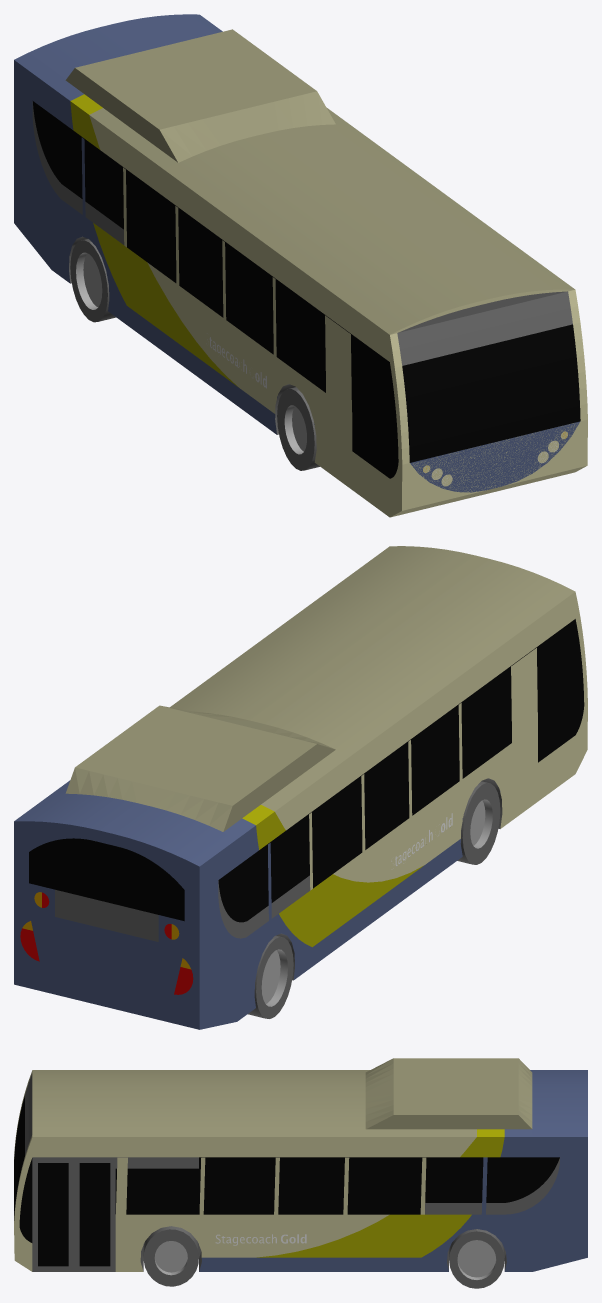
The model's file is dennis-enviro350h.dae.
The picture shows the model from 3 angles, top to bottom: view 1: azimuth 30°, elevation 25°; view 2: azimuth 150°, elevation 25°; view 3: azimuth 270°, elevation 25°; orthographic projection. The views are drawn at different scales.
Parts seen in each view (by area): view 1: SketchUp_155, SketchUp_157, SketchUp_179, SketchUp_159, SketchUp_158, SketchUp_160, SketchUp_177, SketchUp_196, SketchUp_154, Plane_053, SketchUp_180, SketchUp_194 (+2 smaller); view 2: SketchUp_155, SketchUp_179, SketchUp_157, SketchUp_184, SketchUp_177, SketchUp_196, SketchUp_154, SketchUp_185, Plane_053, SketchUp_180, SketchUp_194, SketchUp_178 (+1 smaller); view 3: SketchUp_155, SketchUp_173, SketchUp_179, SketchUp_154, SketchUp_181, SketchUp_169, SketchUp_172, SketchUp_183, SketchUp_195, SketchUp_182, SketchUp_167, SketchUp_165 (+3 smaller).
Part boxes in pixels (x1,y1,x2,y2): SketchUp_155: [65, 29, 587, 517]; SketchUp_157: [33, 101, 398, 478]; SketchUp_179: [14, 14, 276, 434]; SketchUp_159: [402, 324, 580, 462]; SketchUp_158: [397, 291, 572, 365]; SketchUp_160: [410, 421, 580, 492]; SketchUp_177: [93, 223, 237, 386]; SketchUp_196: [202, 302, 276, 413]; SketchUp_154: [69, 236, 319, 470]; Plane_053: [325, 315, 351, 411]; SketchUp_180: [32, 101, 124, 244]; SketchUp_194: [76, 252, 102, 309]; SketchUp_155: [65, 546, 587, 882]; SketchUp_179: [14, 780, 462, 1029]; SketchUp_157: [218, 619, 584, 922]; SketchUp_184: [29, 838, 184, 921]; SketchUp_177: [279, 866, 422, 947]; SketchUp_196: [387, 779, 462, 879]; SketchUp_154: [248, 778, 502, 1018]; SketchUp_185: [55, 889, 158, 941]; Plane_053: [511, 648, 537, 742]; SketchUp_180: [218, 875, 310, 938]; SketchUp_194: [261, 949, 287, 1006]; SketchUp_178: [242, 805, 285, 849]; SketchUp_155: [14, 1058, 532, 1271]; SketchUp_173: [115, 1157, 559, 1214]; SketchUp_179: [199, 1070, 587, 1271]; SketchUp_154: [32, 1157, 506, 1288]; SketchUp_181: [257, 1214, 471, 1257]; SketchUp_169: [79, 1163, 110, 1266]; SketchUp_172: [38, 1163, 68, 1266]; SketchUp_183: [425, 1157, 560, 1214]; SketchUp_195: [457, 1240, 496, 1279]; SketchUp_182: [460, 1129, 504, 1157]; SketchUp_167: [154, 1241, 187, 1275]; SketchUp_165: [19, 1158, 32, 1242].
Size of the model in its own units: 1.97 by 7.13 by 2.31.
